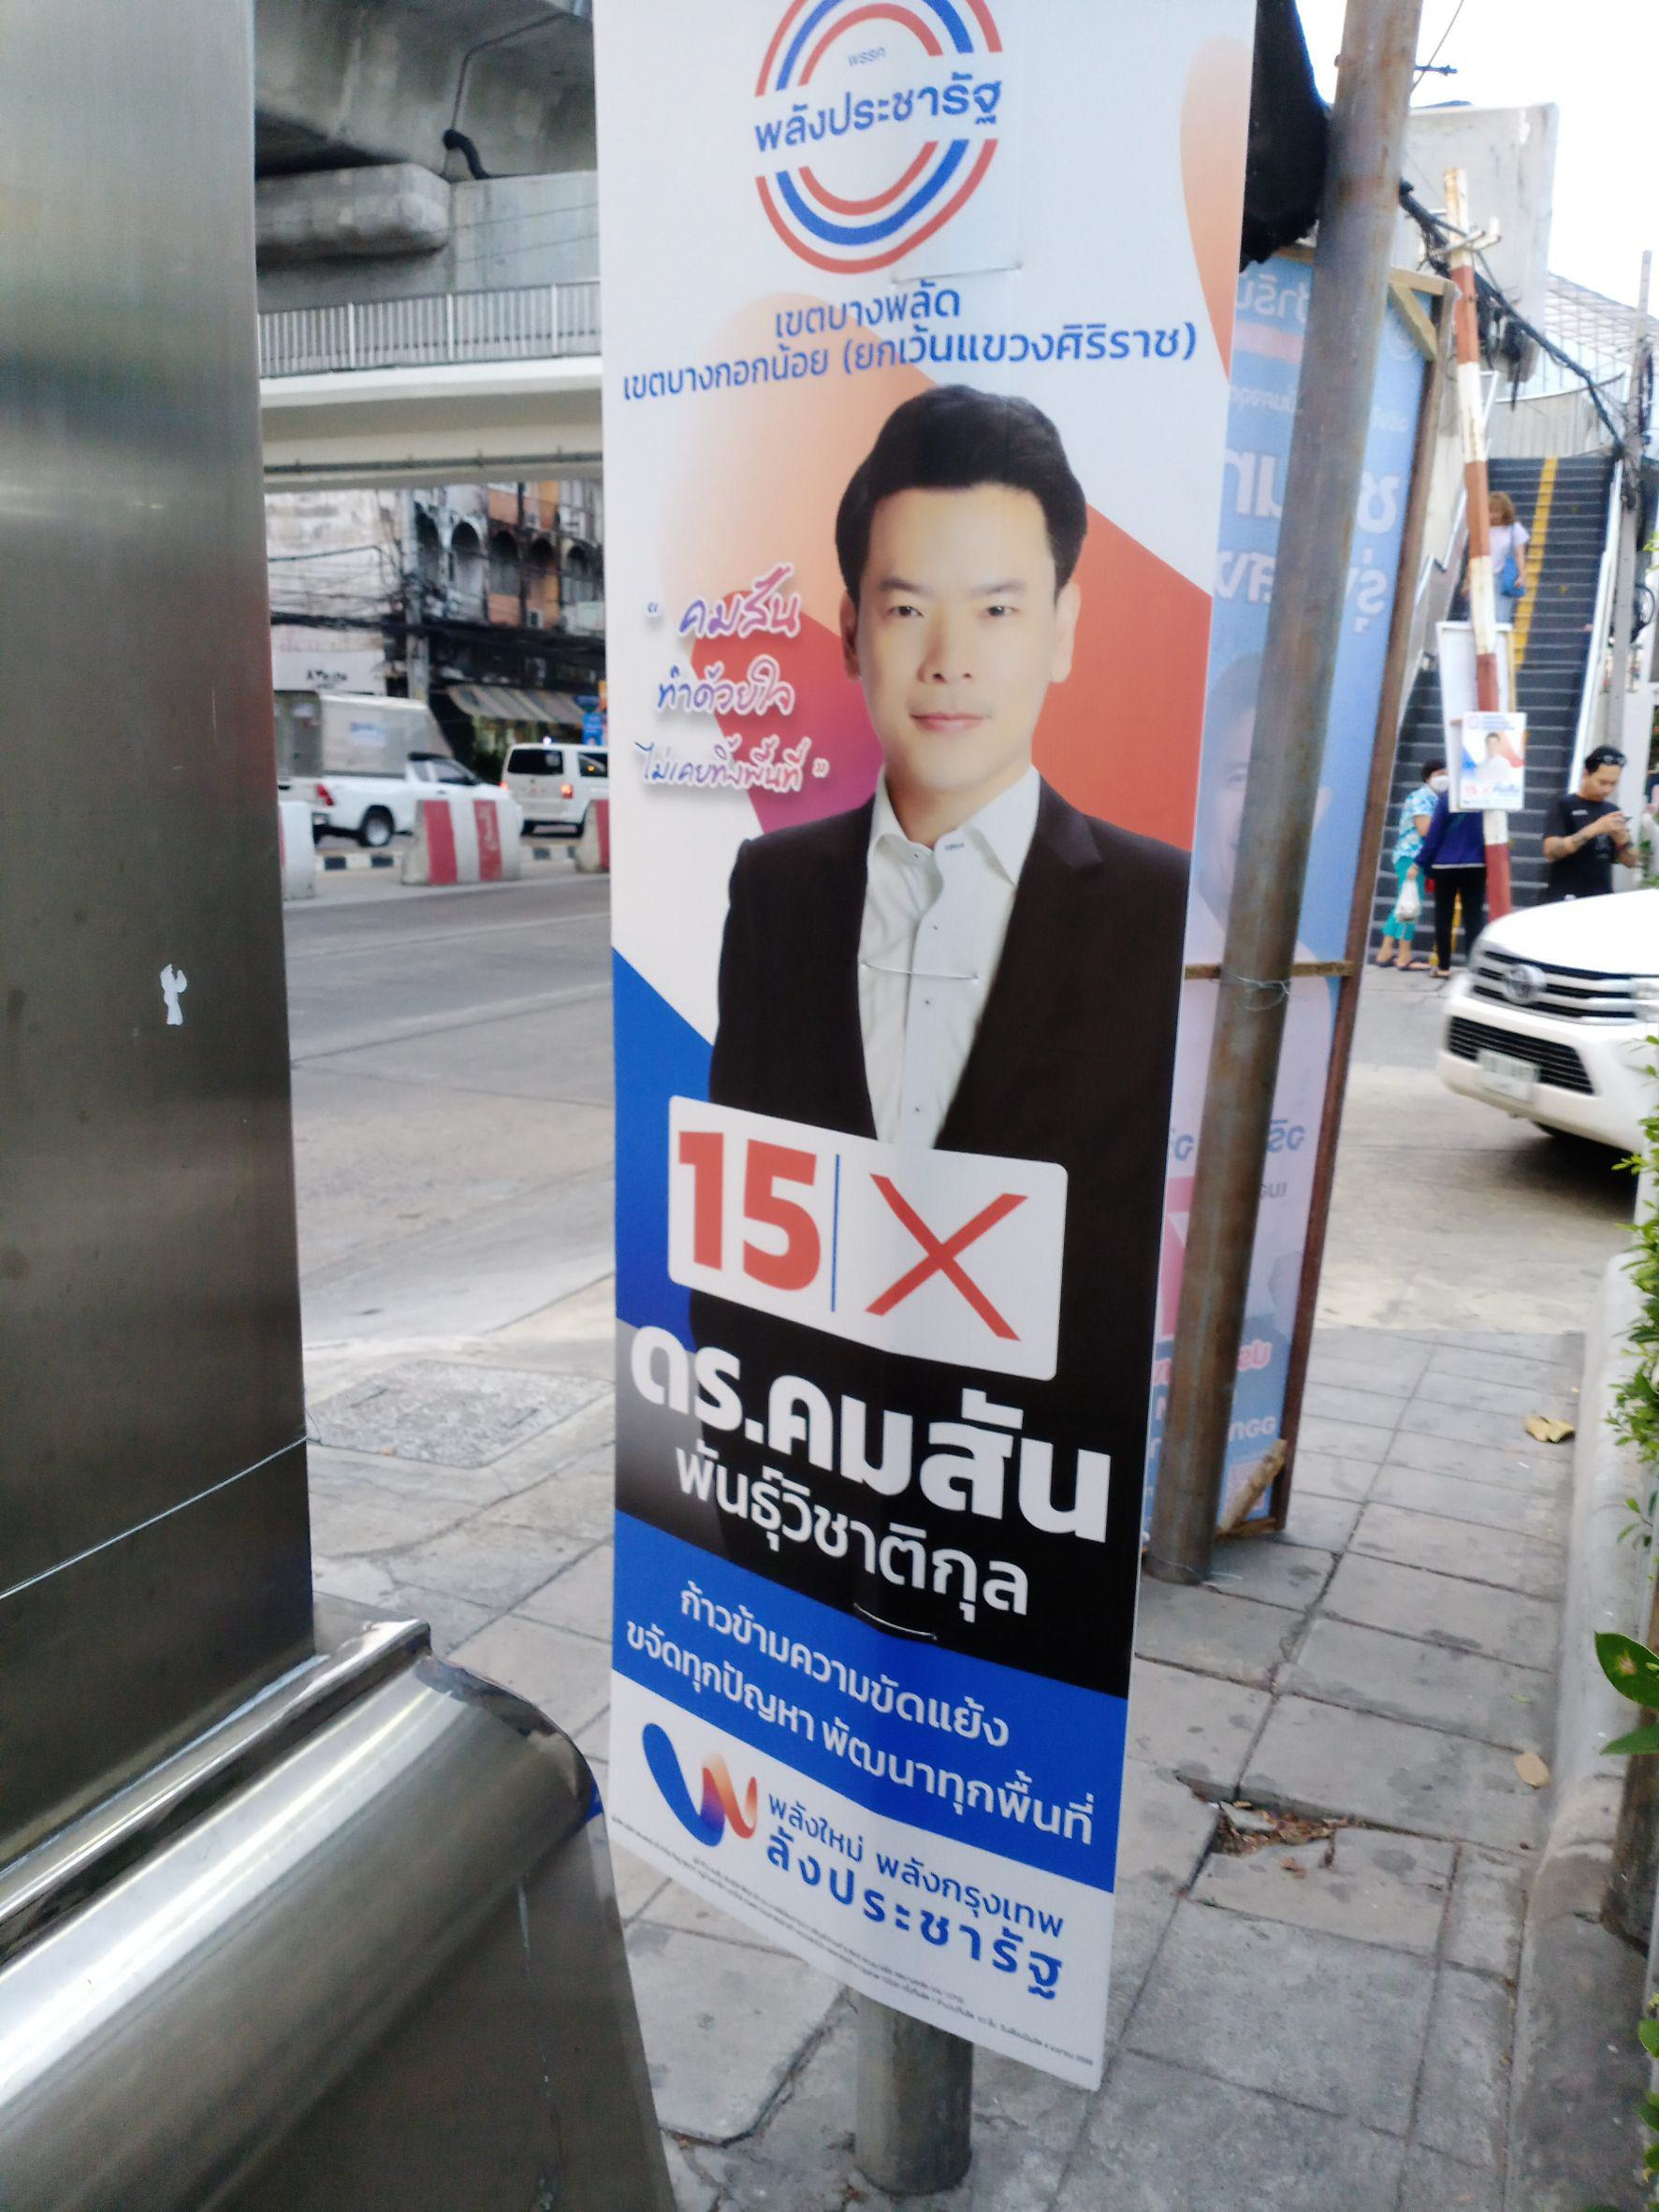Banner: (592, 0, 1258, 2095)
